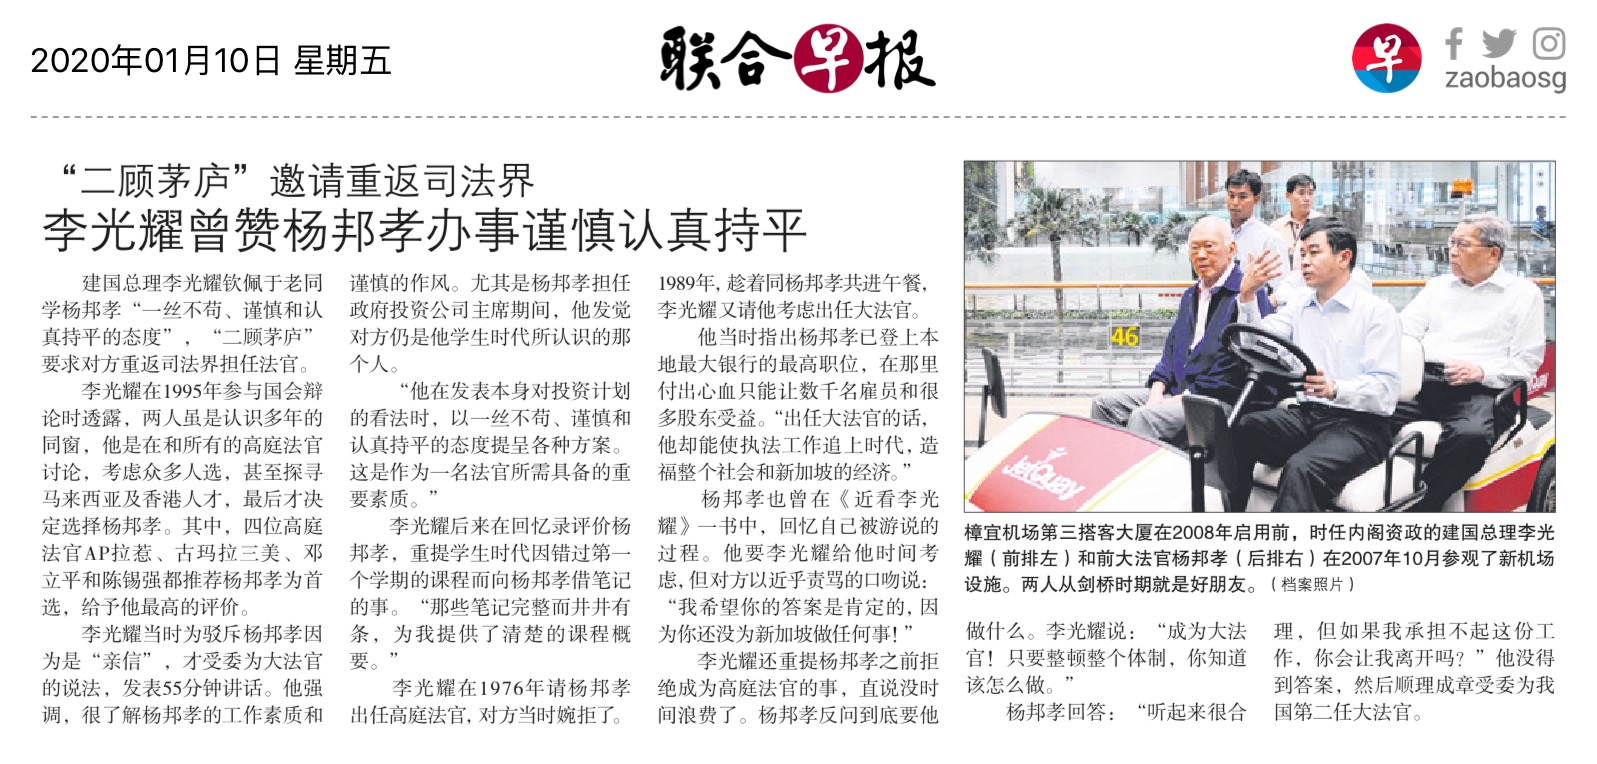heading: (29, 204, 815, 263)
